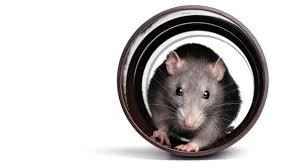rat: (147, 44, 242, 152)
